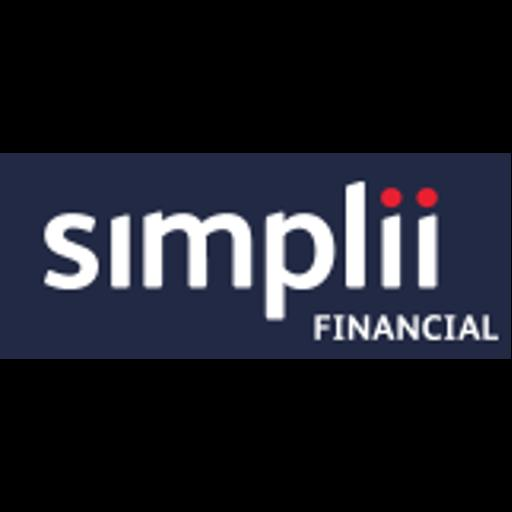Simplii Financial: (0, 153, 511, 359)
